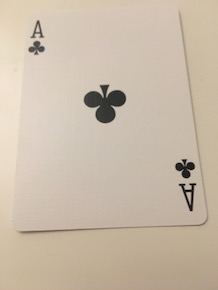AceOfClubs: (12, 3, 211, 231)
